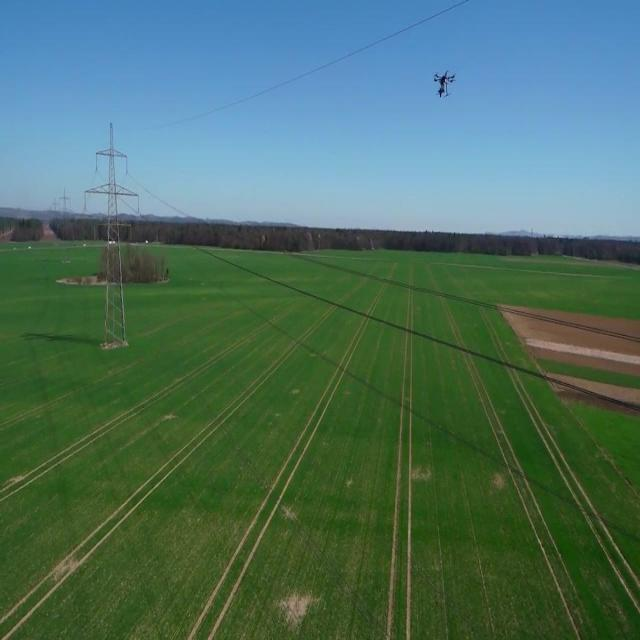UAV: (434, 69, 456, 99)
